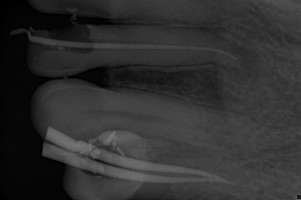Furcation Involvement: (230, 47, 262, 83)
